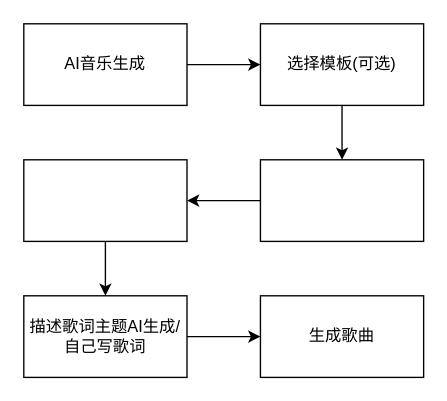
Some shapes in this 447 by 401 pixel diagram are drawn without their labels. Each missing label, with the centre of its shape:
"调整参数(氛围，人声，歌曲长度)" belongs at point (104, 199).
"选择风格" belongs at point (341, 199).
